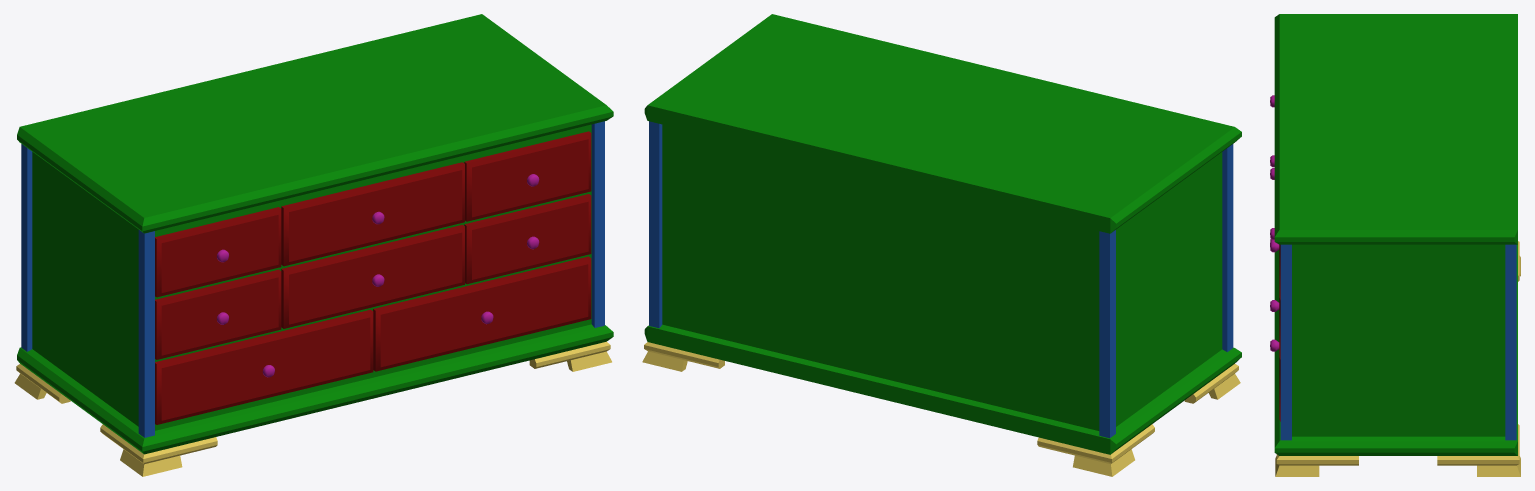
The model's file is 大櫃子.obj.
3 renders of one model, left to right at view 1: azimuth 30°, elevation 25°; view 2: azimuth 150°, elevation 25°; view 3: azimuth 270°, elevation 25°, orthographic. The views are drawn at different scales.
Visible parts, largest first — view 1: Low_b_low, a_low_Low, Low_c_low, Low_e_low, Low_d_low; view 2: Low_b_low, Low_c_low, Low_e_low; view 3: Low_b_low, Low_c_low, Low_e_low, Low_d_low, a_low_Low.
Boxes of the visible parts, x1=… form: Low_b_low: x1=17, y1=14, x2=613, y2=454; a_low_Low: x1=155, y1=131, x2=591, y2=424; Low_c_low: x1=21, y1=121, x2=604, y2=437; Low_e_low: x1=14, y1=341, x2=611, y2=476; Low_d_low: x1=216, y1=174, x2=539, y2=377; Low_b_low: x1=644, y1=14, x2=1241, y2=454; Low_c_low: x1=649, y1=121, x2=1233, y2=438; Low_e_low: x1=642, y1=342, x2=1240, y2=476; Low_b_low: x1=1274, y1=14, x2=1517, y2=455; Low_c_low: x1=1280, y1=244, x2=1516, y2=440; Low_e_low: x1=1275, y1=241, x2=1520, y2=476; Low_d_low: x1=1270, y1=95, x2=1279, y2=351; a_low_Low: x1=1279, y1=244, x2=1280, y2=421.
Bounding box in the file's own units: 183 × 95.04 × 88.05.
